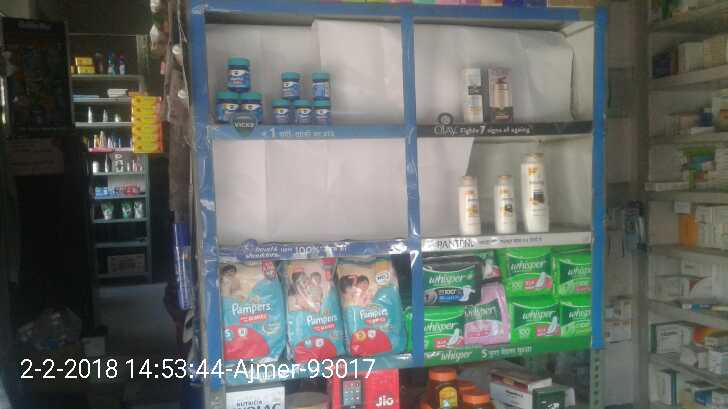vicks: (216, 44, 337, 125)
